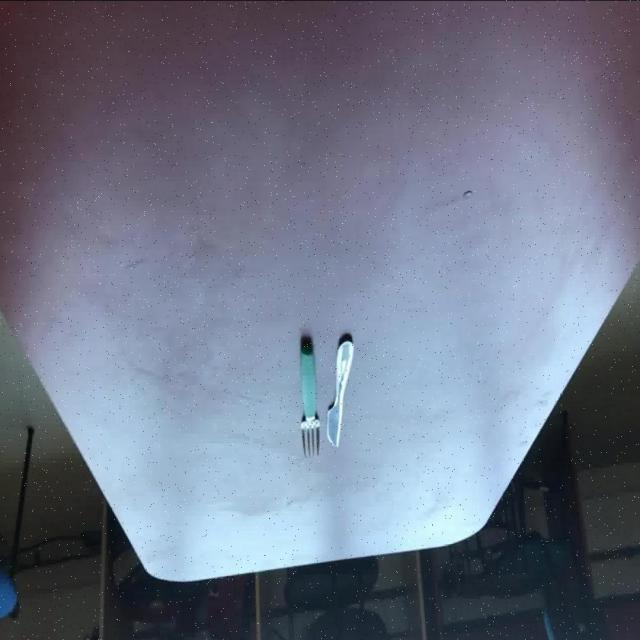Fork: (326, 331, 354, 446), (299, 333, 320, 456)
Knife: (326, 331, 354, 446)
